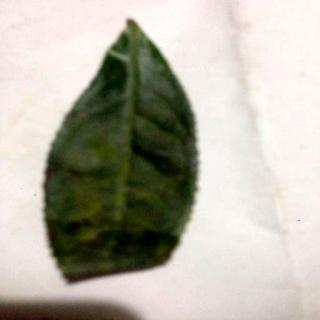Red Leaf Spot: (42, 22, 200, 286)
